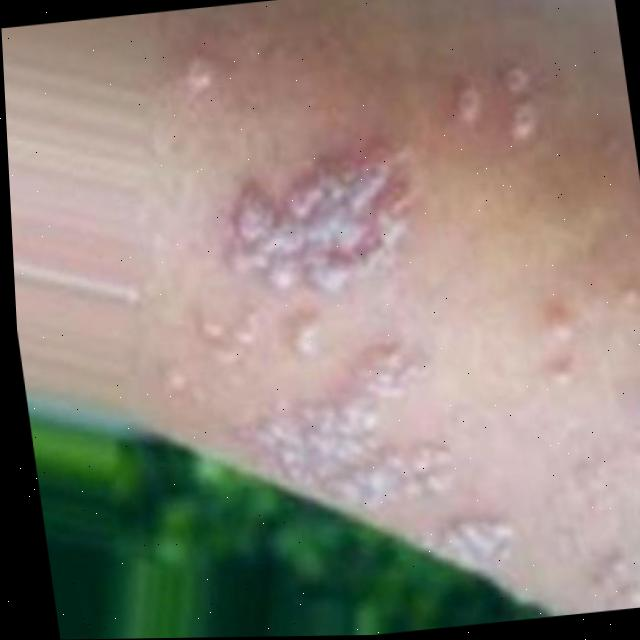Shingles: (204, 139, 513, 591), (459, 65, 541, 134)
